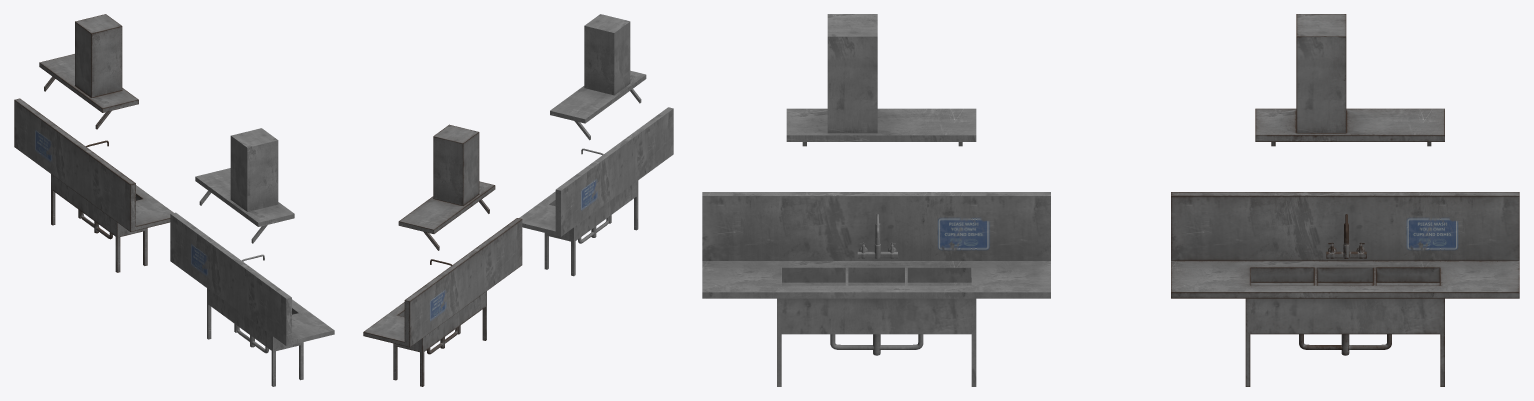
Rendered from metal_sinks.glb.
The picture shows the model from 3 angles, left to right: view 1: azimuth 30°, elevation 25°; view 2: azimuth 150°, elevation 25°; view 3: azimuth 270°, elevation 25°; orthographic projection. The views are drawn at different scales.
Parts seen in each view (by area): view 1: SM_Sink, SM_Sink.001, SM_Vent, SM_Vent.001; view 2: SM_Sink.001, SM_Sink, SM_Vent.001, SM_Vent; view 3: SM_Sink, SM_Sink.001, SM_Vent, SM_Vent.001, SM_Kitchen_pipe, SM_Kitchen_pipe.002.
Part boxes in pixels (left/top/right/bottom): SM_Sink: left=170, top=212, right=334, bottom=386; SM_Sink.001: left=14, top=98, right=173, bottom=272; SM_Vent: left=195, top=128, right=294, bottom=243; SM_Vent.001: left=39, top=14, right=138, bottom=129; SM_Sink.001: left=363, top=218, right=522, bottom=386; SM_Sink: left=519, top=107, right=673, bottom=276; SM_Vent.001: left=398, top=124, right=495, bottom=250; SM_Vent: left=550, top=14, right=646, bottom=140; SM_Sink: left=702, top=192, right=1050, bottom=386; SM_Sink.001: left=1171, top=192, right=1519, bottom=386; SM_Vent: left=786, top=14, right=976, bottom=146; SM_Vent.001: left=1255, top=14, right=1444, bottom=146; SM_Kitchen_pipe: left=830, top=334, right=923, bottom=355; SM_Kitchen_pipe.002: left=1299, top=334, right=1391, bottom=355.
Bounding box in the file's own units: 0.6922 × 3.15 × 6.78.
2 materials, 2 textured.
